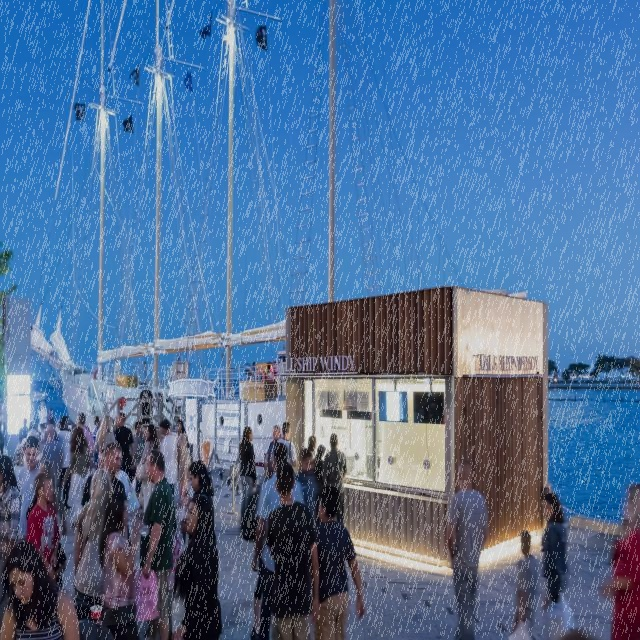pessoa: (251, 442, 306, 640), (265, 457, 323, 640), (308, 484, 366, 640), (0, 536, 83, 640), (445, 458, 491, 640), (170, 490, 224, 640), (136, 448, 178, 640), (98, 490, 144, 640), (599, 481, 640, 640), (240, 458, 275, 640), (73, 467, 114, 608), (0, 453, 22, 632), (26, 471, 60, 585), (538, 491, 570, 606), (80, 440, 128, 512), (510, 528, 540, 640), (61, 424, 92, 532), (180, 458, 218, 546), (15, 435, 42, 539), (320, 432, 348, 526), (134, 423, 160, 513), (25, 458, 59, 521), (294, 447, 319, 527), (53, 414, 73, 513), (238, 426, 257, 520), (158, 418, 178, 496), (176, 418, 192, 510), (41, 424, 64, 487), (114, 469, 140, 518), (93, 414, 117, 462), (114, 412, 136, 462), (15, 421, 38, 467), (276, 422, 298, 470), (264, 424, 282, 479), (13, 418, 29, 467), (558, 620, 601, 638), (417, 402, 447, 424), (131, 421, 145, 464), (69, 412, 93, 437), (37, 401, 48, 442), (92, 416, 100, 470), (314, 444, 324, 480), (34, 422, 48, 444), (306, 434, 317, 461), (97, 447, 109, 469), (46, 407, 54, 425), (167, 415, 173, 436), (54, 418, 60, 438), (111, 414, 117, 431)
